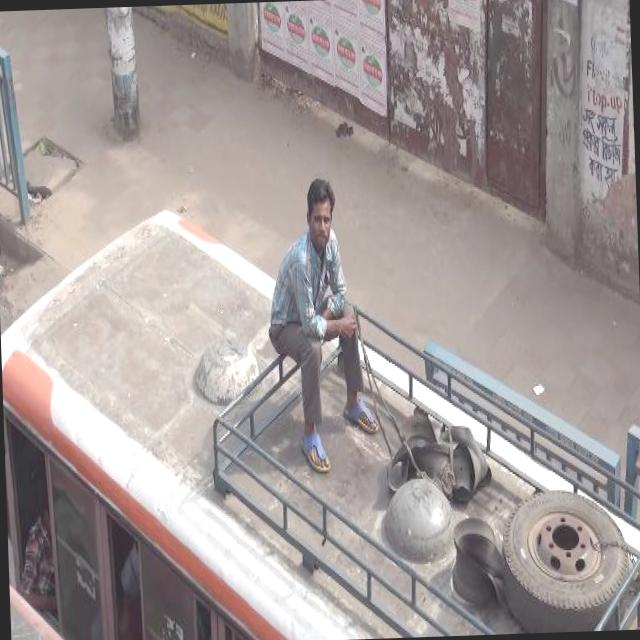bus: (0, 188, 640, 640)
